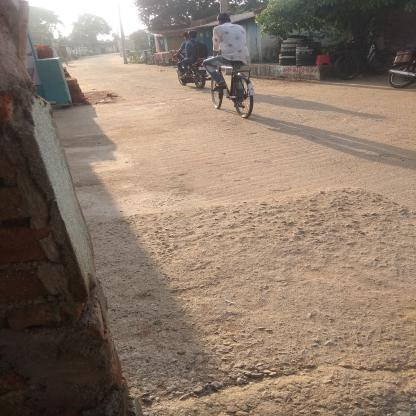bike: (195, 53, 273, 121)
